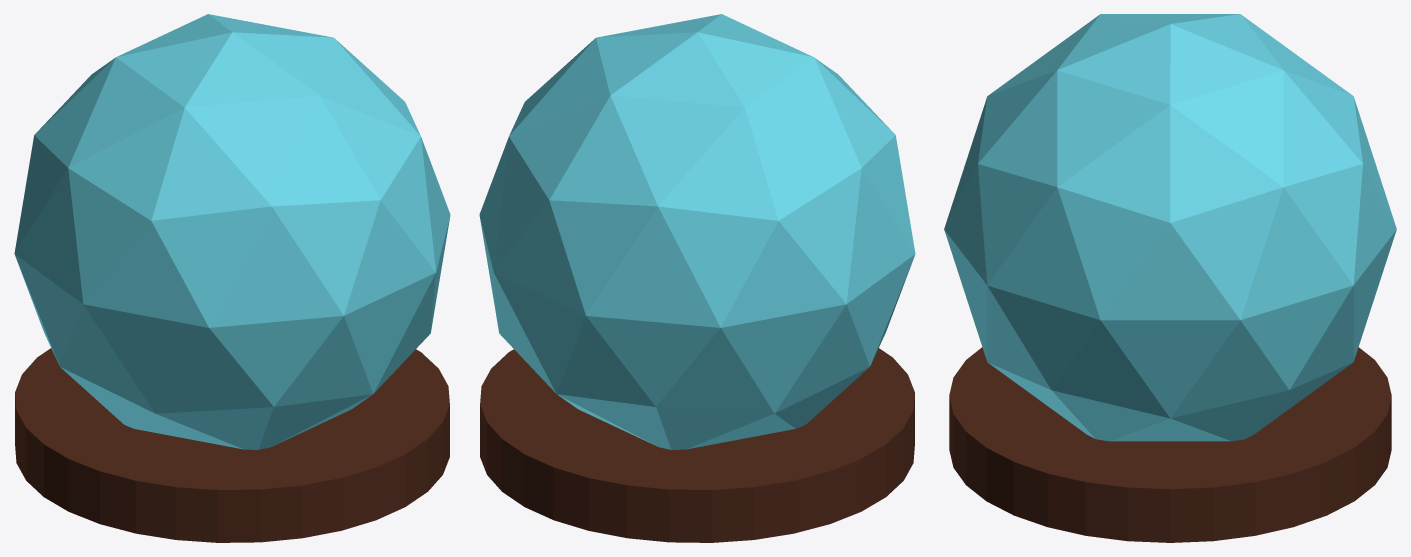
File: globe.glb
3 renders of one model, left to right at view 1: azimuth 30°, elevation 25°; view 2: azimuth 150°, elevation 25°; view 3: azimuth 270°, elevation 25°, orthographic.
Parts seen in each view (by area): view 1: Cube.019_8.001, Cube.019_2.001; view 2: Cube.019_8.001, Cube.019_2.001; view 3: Cube.019_8.001, Cube.019_2.001.
Boxes of the visible parts, x1,y1,x2,y2 form: Cube.019_8.001: (14, 14, 450, 449); Cube.019_2.001: (15, 348, 449, 542); Cube.019_8.001: (479, 14, 915, 449); Cube.019_2.001: (480, 348, 914, 542); Cube.019_8.001: (944, 14, 1396, 441); Cube.019_2.001: (949, 347, 1391, 542).
Bounding box in the file's own units: 0.1668 × 0.1769 × 0.1706.
